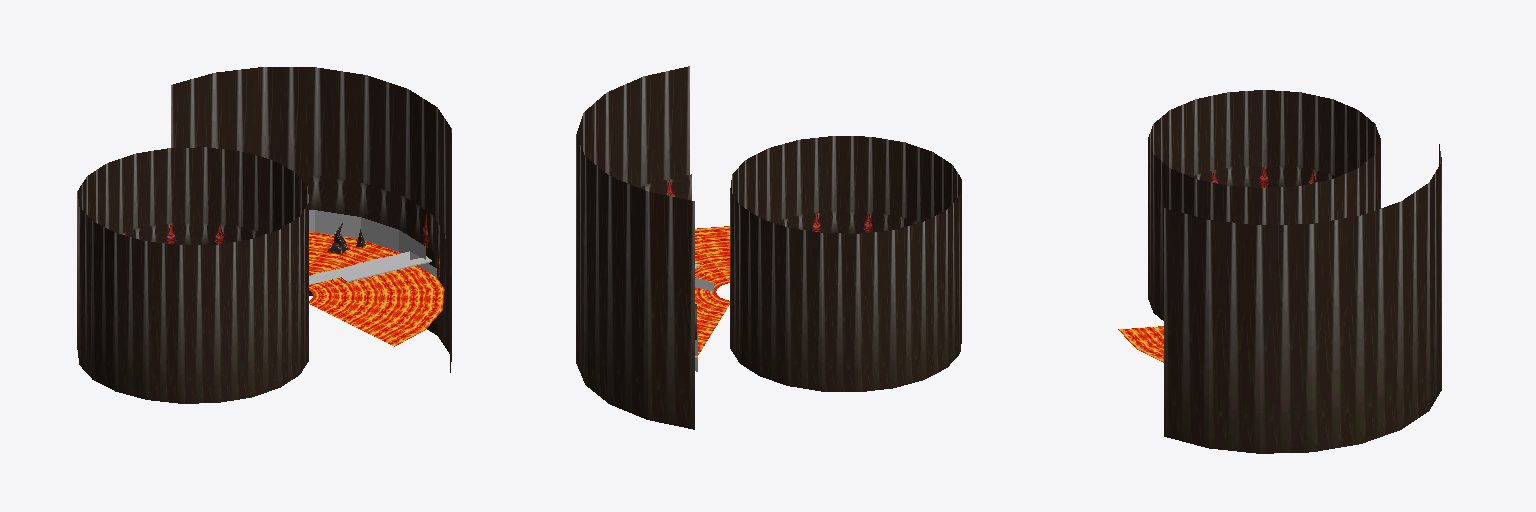
3 renders of one model, left to right at view 1: azimuth 30°, elevation 25°; view 2: azimuth 150°, elevation 25°; view 3: azimuth 270°, elevation 25°, orthographic.
Visible parts, largest first — view 1: polygon7, polygon2, polygon3, polygon5; view 2: polygon7, polygon2; view 3: polygon7, polygon2.
Part boxes in pixels (x1,y1,x2,y2): polygon7: (77,67,451,403); polygon2: (309,232,444,346); polygon3: (309,210,431,282); polygon5: (309,251,436,284); polygon7: (576,66,961,429); polygon2: (695,226,729,357); polygon7: (1148,90,1441,453); polygon2: (1118,326,1163,362).
Bounding box in the file's own units: 115 × 73.27 × 94.21.
Materials: 9 (8 with a texture image).